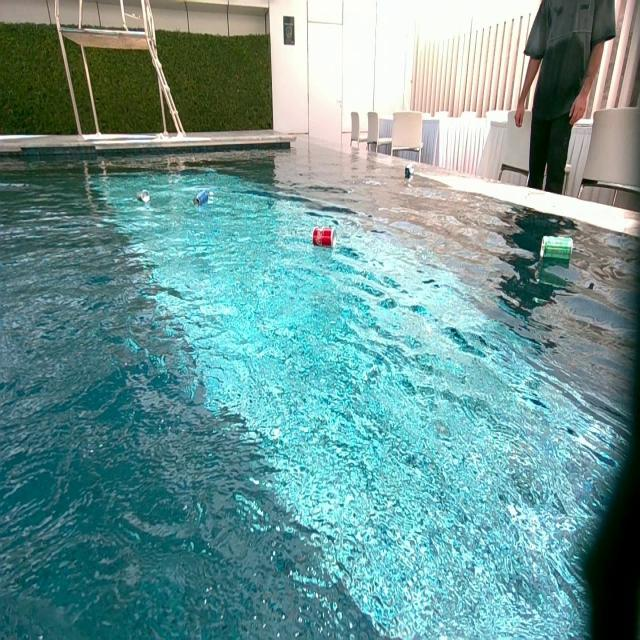Cans: (540, 234, 573, 263), (312, 228, 334, 250), (195, 188, 210, 205), (140, 189, 150, 203), (407, 166, 414, 177)
